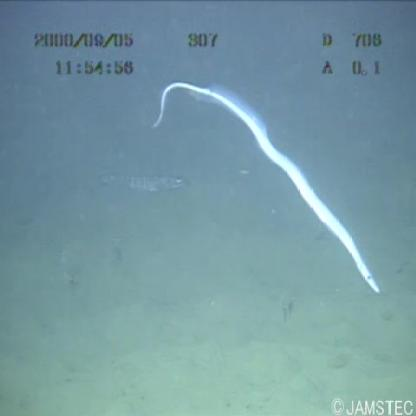Bio: (146, 73, 388, 305)
